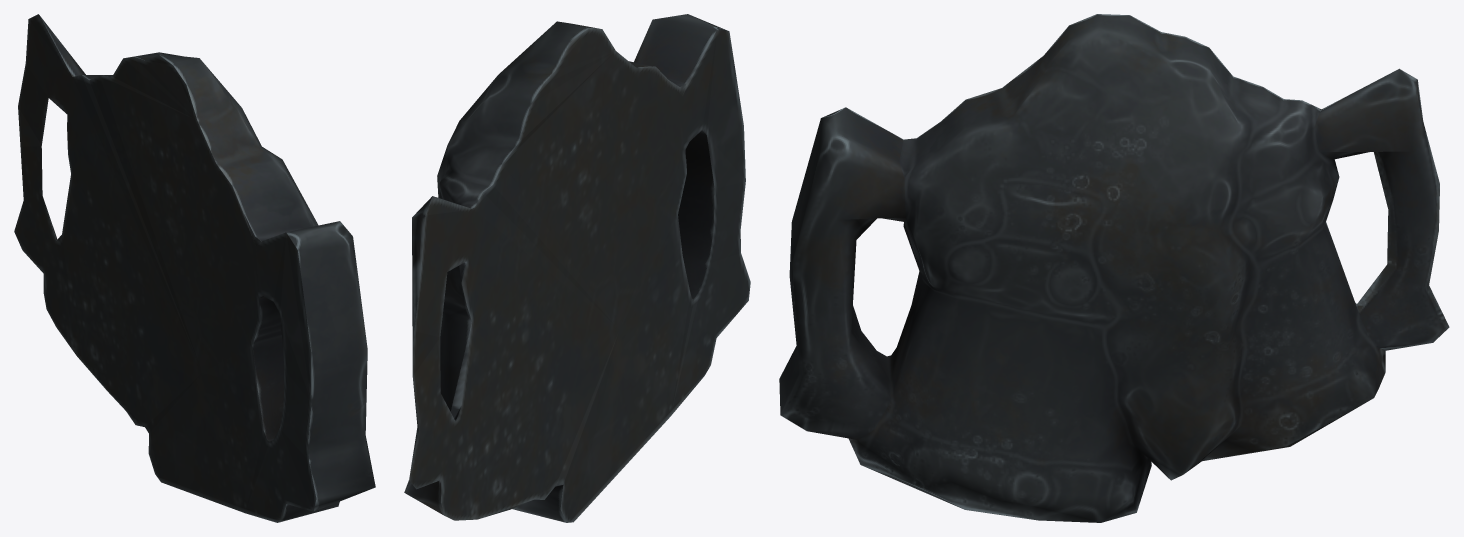
The model's file is S_MVIllage_Sign_ID_Tavern_A.fbx.
3 views of the same model, side by side, from view 1: azimuth 30°, elevation 25°; view 2: azimuth 150°, elevation 25°; view 3: azimuth 270°, elevation 25° (orthographic). The views are drawn at different scales.
Parts seen in each view (by area): view 1: S_MVillage_Sign_ID_Tavern_LOD0; view 2: S_MVillage_Sign_ID_Tavern_LOD0; view 3: S_MVillage_Sign_ID_Tavern_LOD0.
Boxes of the visible parts, <box> form: S_MVillage_Sign_ID_Tavern_LOD0: <box>14,14,375,522</box>; S_MVillage_Sign_ID_Tavern_LOD0: <box>404,14,750,522</box>; S_MVillage_Sign_ID_Tavern_LOD0: <box>779,14,1449,522</box>.
Size of what is drawn, in the model's own units: 14.25 by 55.75 by 71.51.
